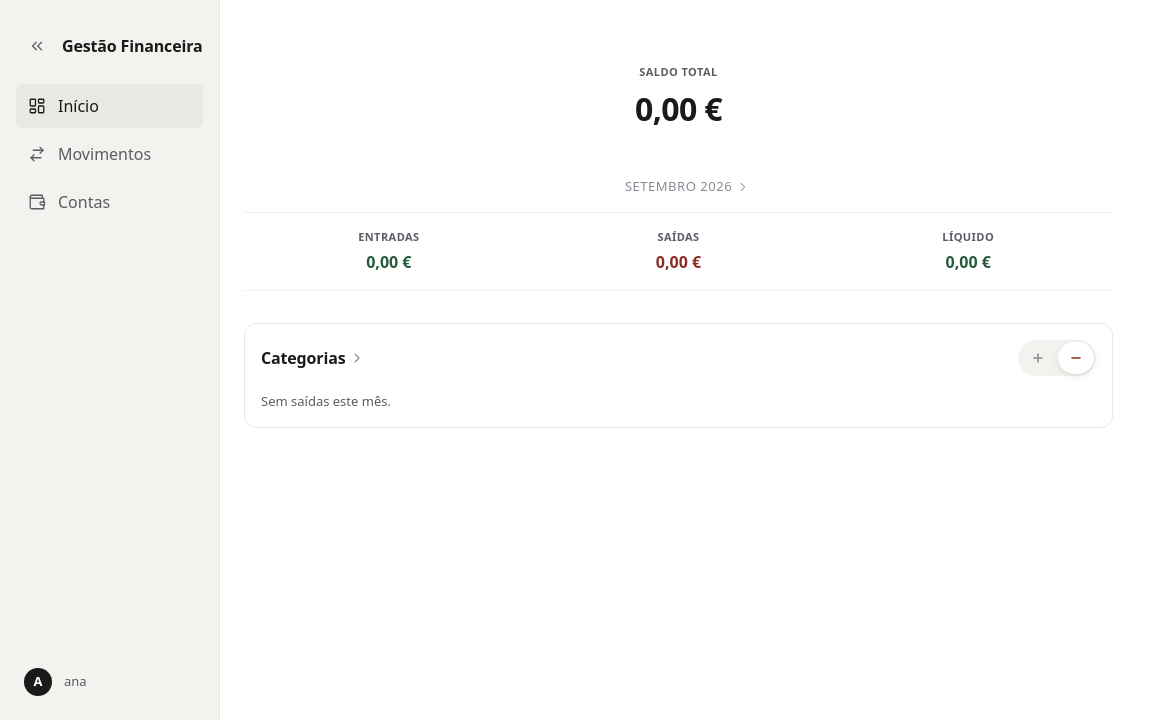
Test: Moldura da aplicação › navega para Contas ao clicar no item da barra lateral
This screenshot has width=1152, height=720.
Click the link "Contas": (69, 202) [28,191,110,213]
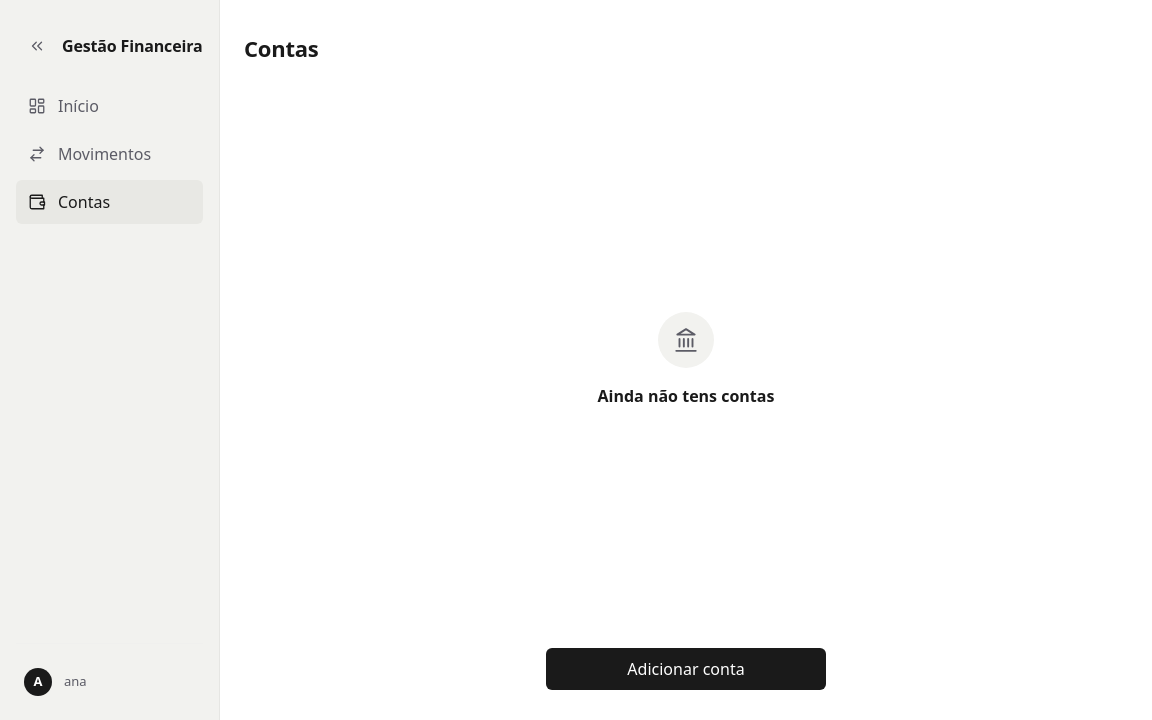
Check: the text "Ainda não tens contas" is shown, box [598,384,774,408]
